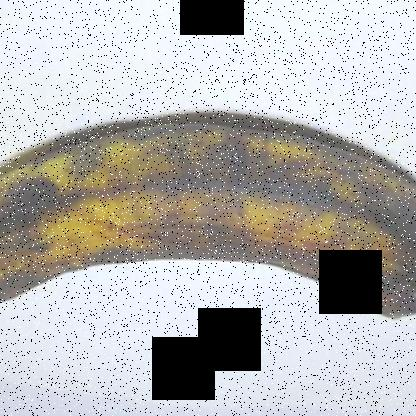overripe: (0, 80, 415, 333)
